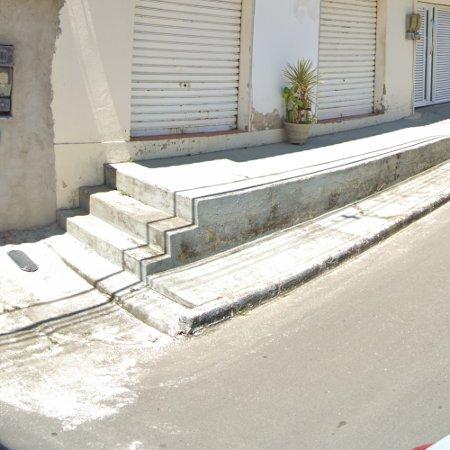stairs: (52, 164, 208, 296)
